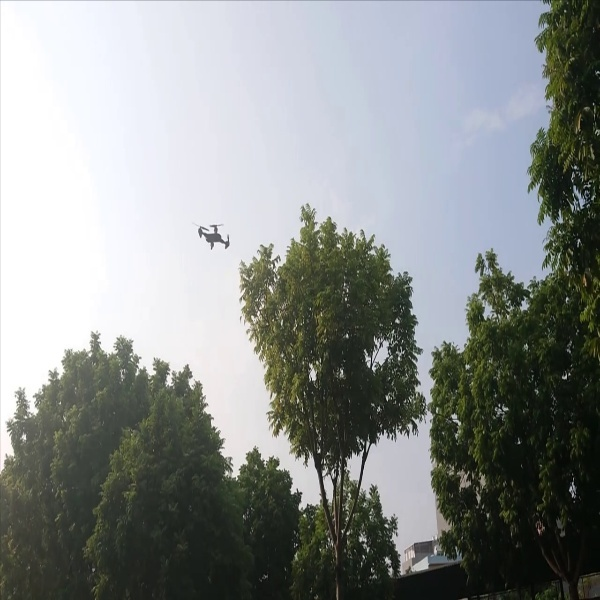drone: (185, 208, 234, 256)
